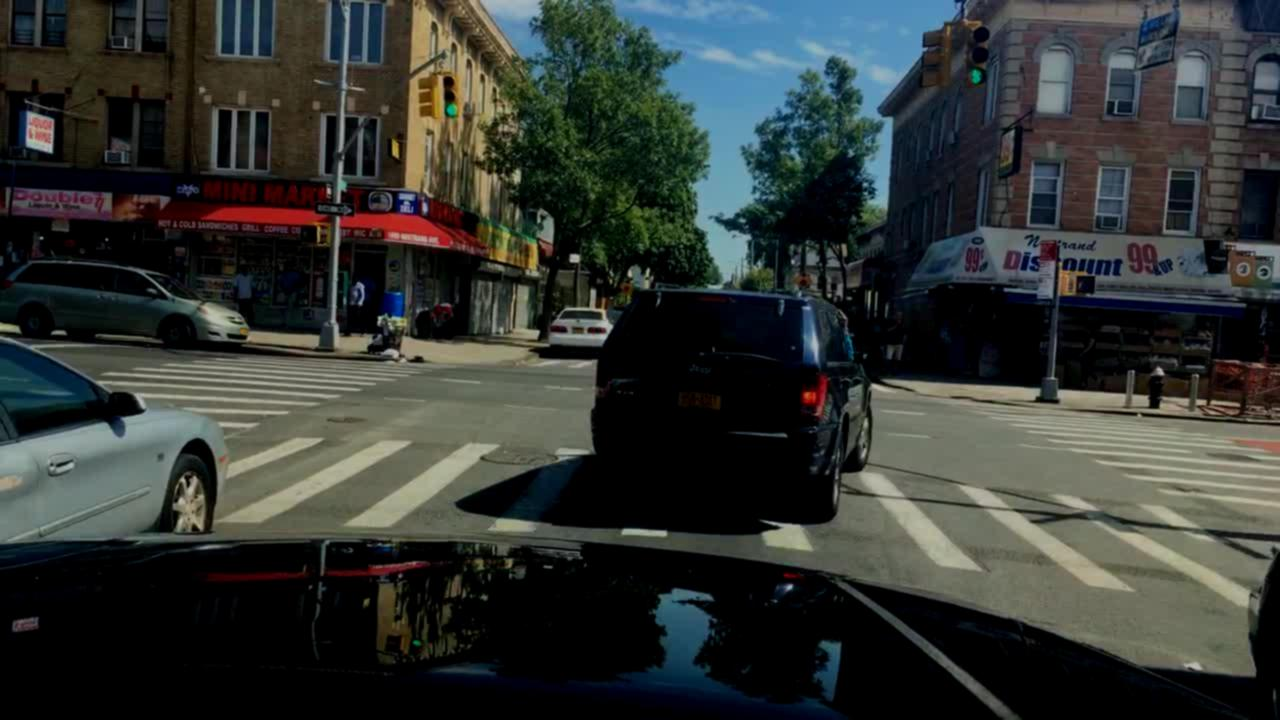jeep: (678, 360, 730, 381)
